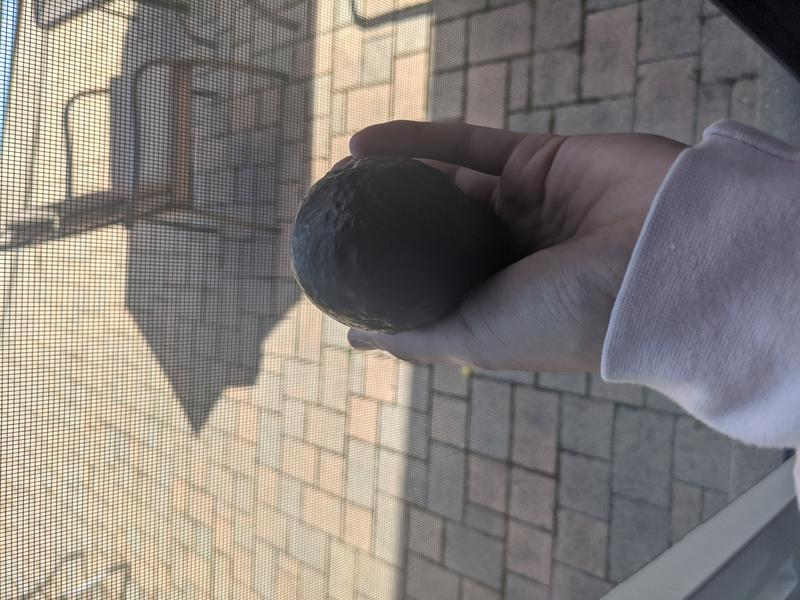avocado: (291, 153, 524, 335)
